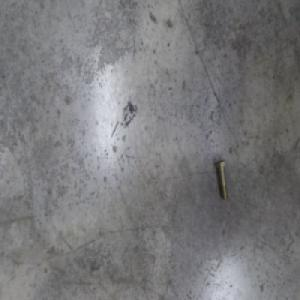Bolt: (211, 157, 225, 199)
